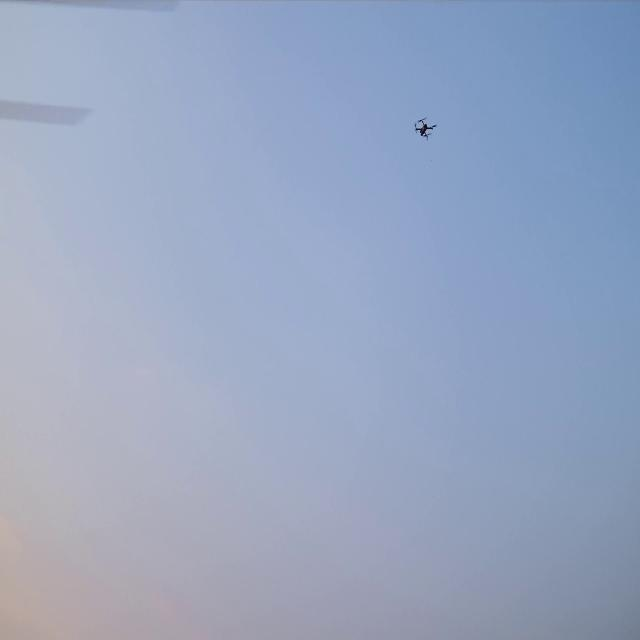UAV: (415, 119, 435, 140)
